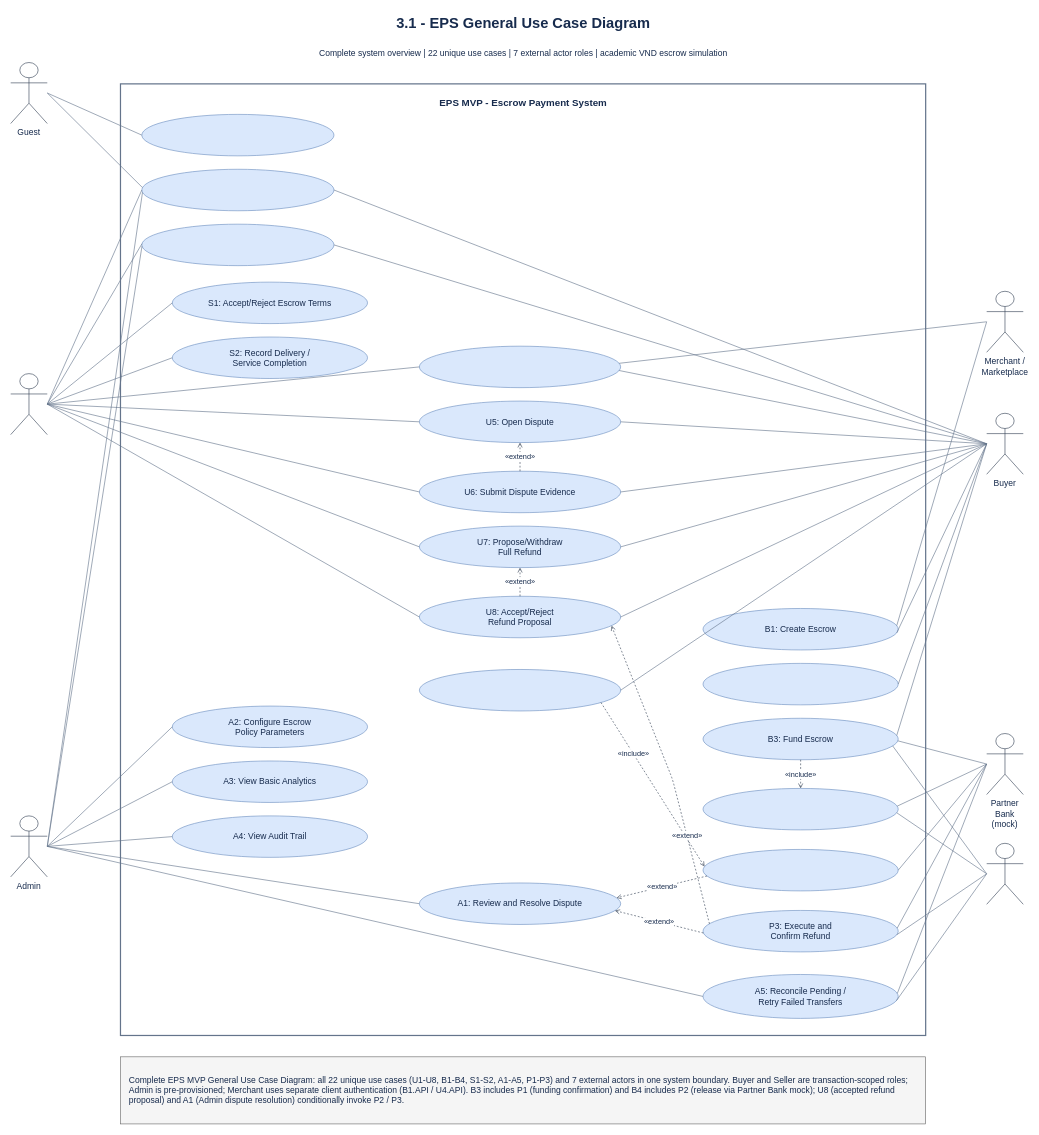
Image size: 1039x1135. Some labels were removed from this diagram. Each missing label, with the box of its shape:
B2: Cancel Unfunded Escrow: (702, 663, 898, 705)
B4: Confirm Acceptance and Request Release: (419, 669, 621, 711)
P1: Confirm Funding: (702, 788, 898, 830)
P2: Execute and Confirm Release: (702, 849, 898, 891)
Payment Gateway (mock): (986, 843, 1023, 904)
Seller: (10, 373, 47, 435)
U1: Register: (141, 114, 334, 156)
U2: Login with MFA: (141, 169, 334, 211)
U3: Logout: (141, 224, 334, 266)
U4: View/Track Escrows: (419, 346, 621, 388)
